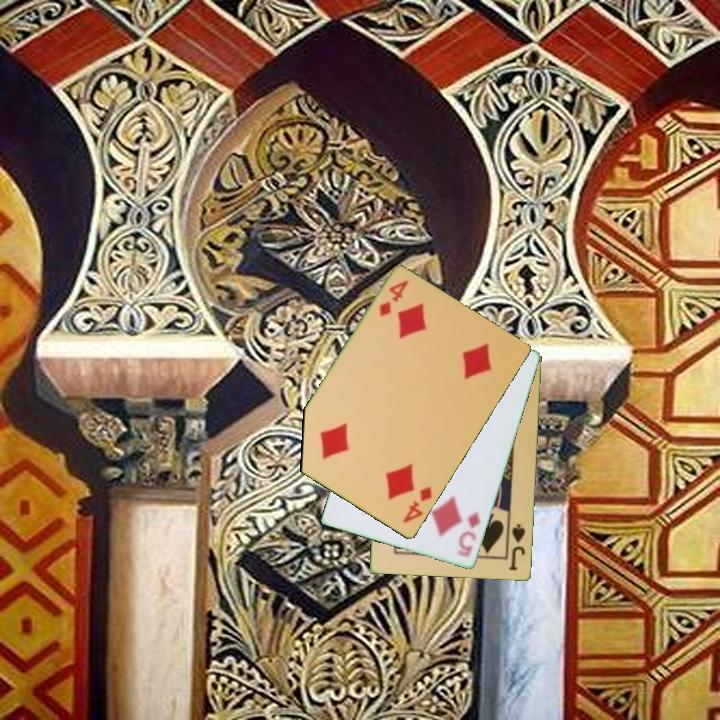4d: (399, 483, 435, 526), (376, 277, 412, 320)
5d: (454, 508, 484, 561)
Js: (506, 521, 528, 573)
